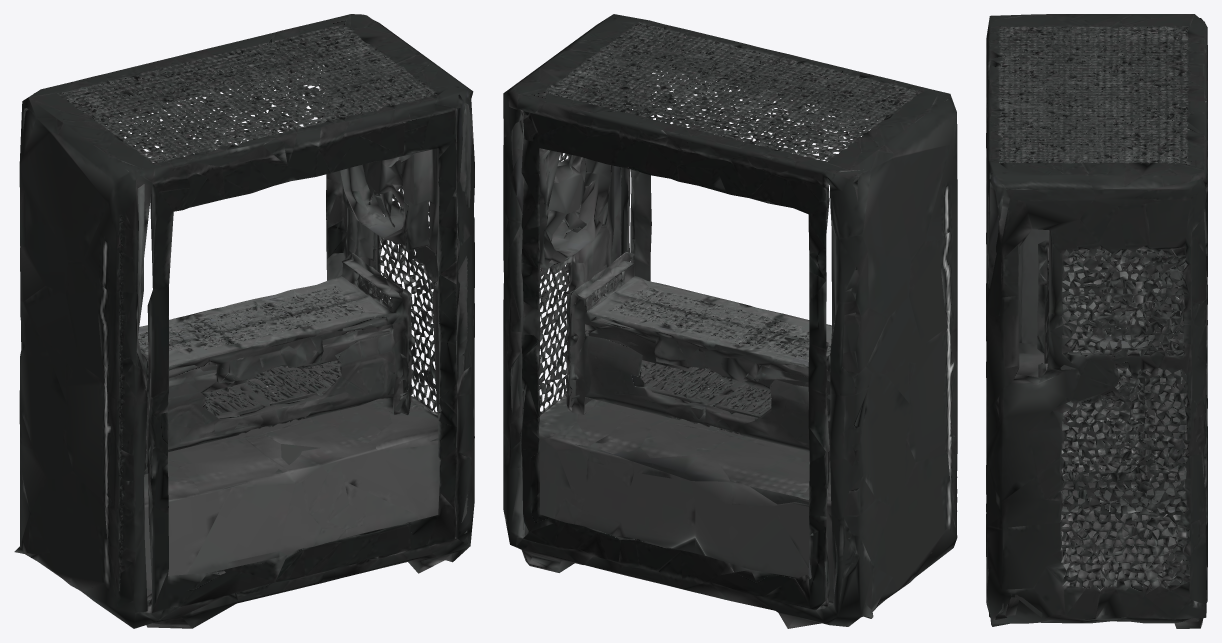
File: pc-tower.glb
3 views of the same model, side by side, from view 1: azimuth 30°, elevation 25°; view 2: azimuth 150°, elevation 25°; view 3: azimuth 270°, elevation 25° (orthographic).
Bounding box in the file's own units: 1.55 × 1.9 × 0.8256.
1 material, 1 textured.
